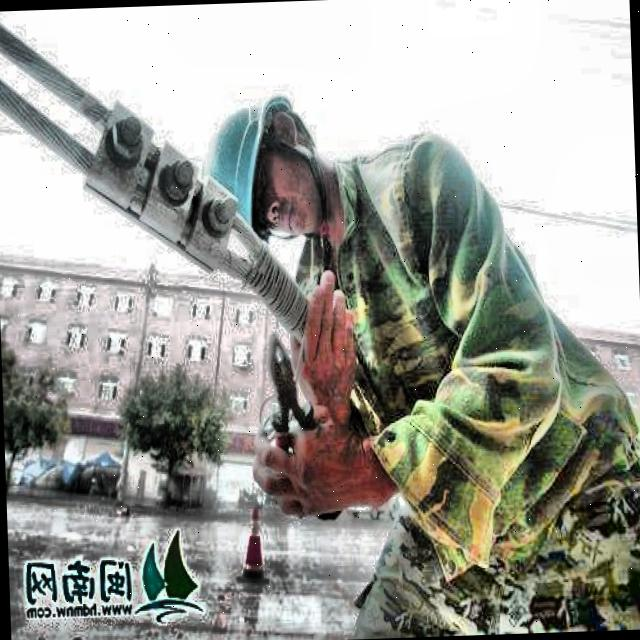helmet: (202, 87, 334, 246)
